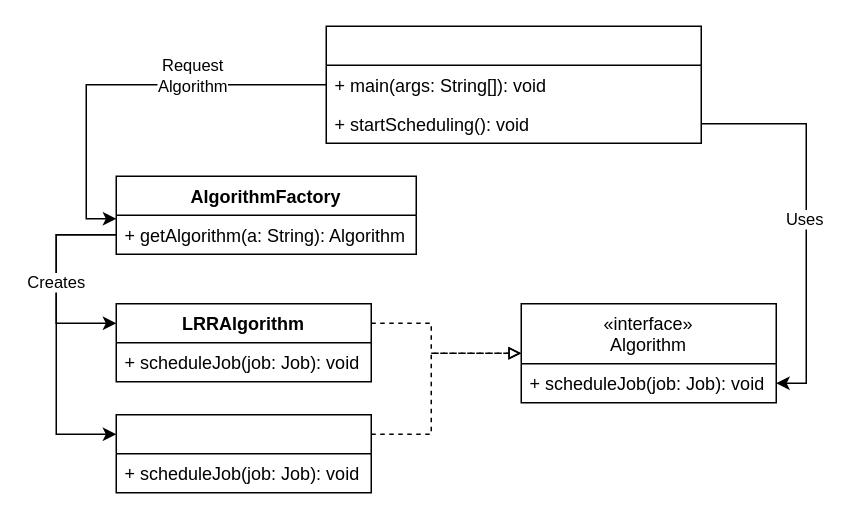
Some shapes in this 849 by 524 pixel diagram are drawn without their labels. The box of each missing label's shape, as (x1, y1, x2, y2) in pixels:
Client: (325, 25, 701, 143)
OtherAlgorithm: (115, 413, 371, 493)
